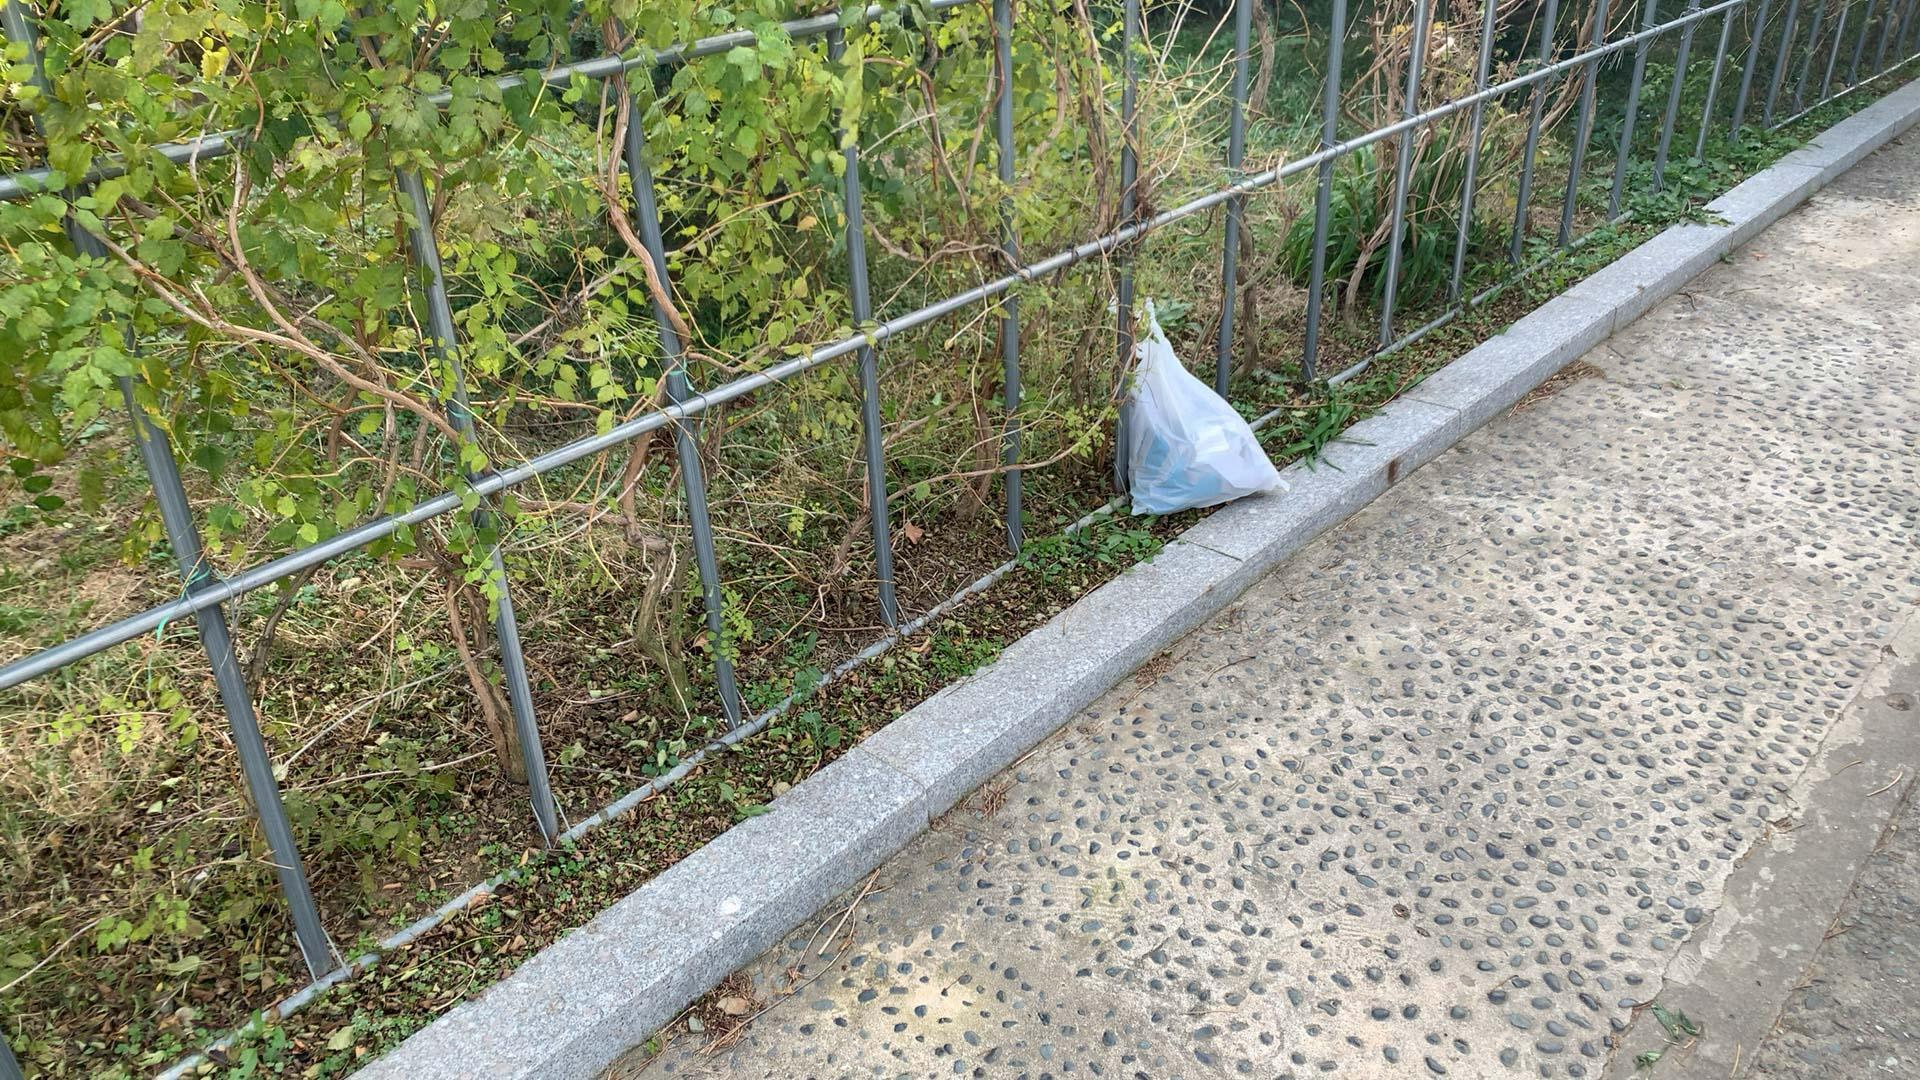white_bag: (1102, 294, 1294, 520)
